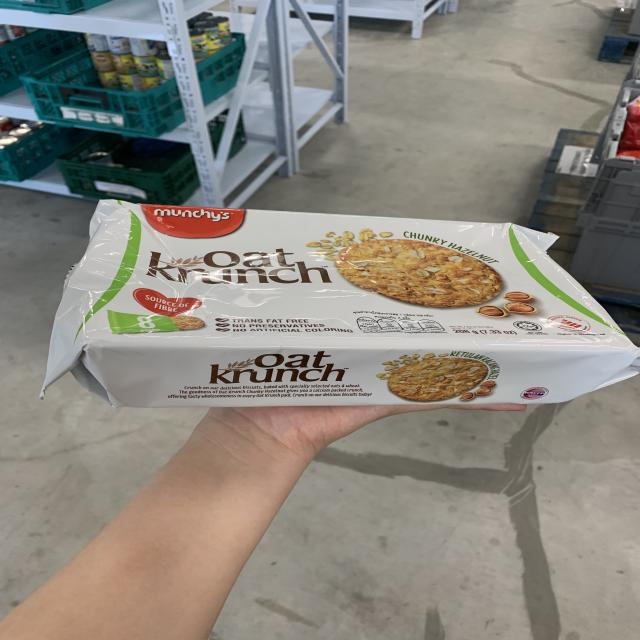object_name: (88, 205, 575, 403)
